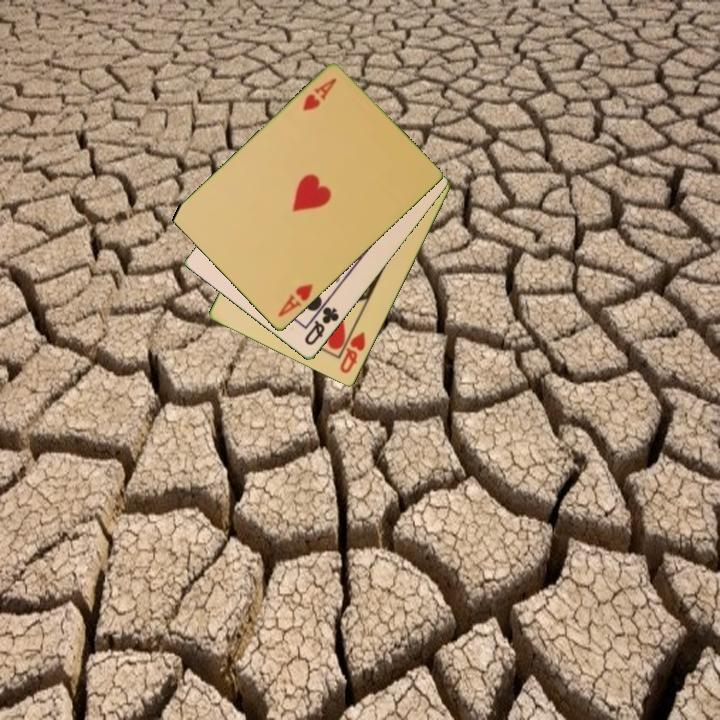Ah: (274, 280, 316, 321), (299, 75, 340, 114)
Qc: (301, 303, 342, 349)
Qh: (336, 328, 369, 377)
